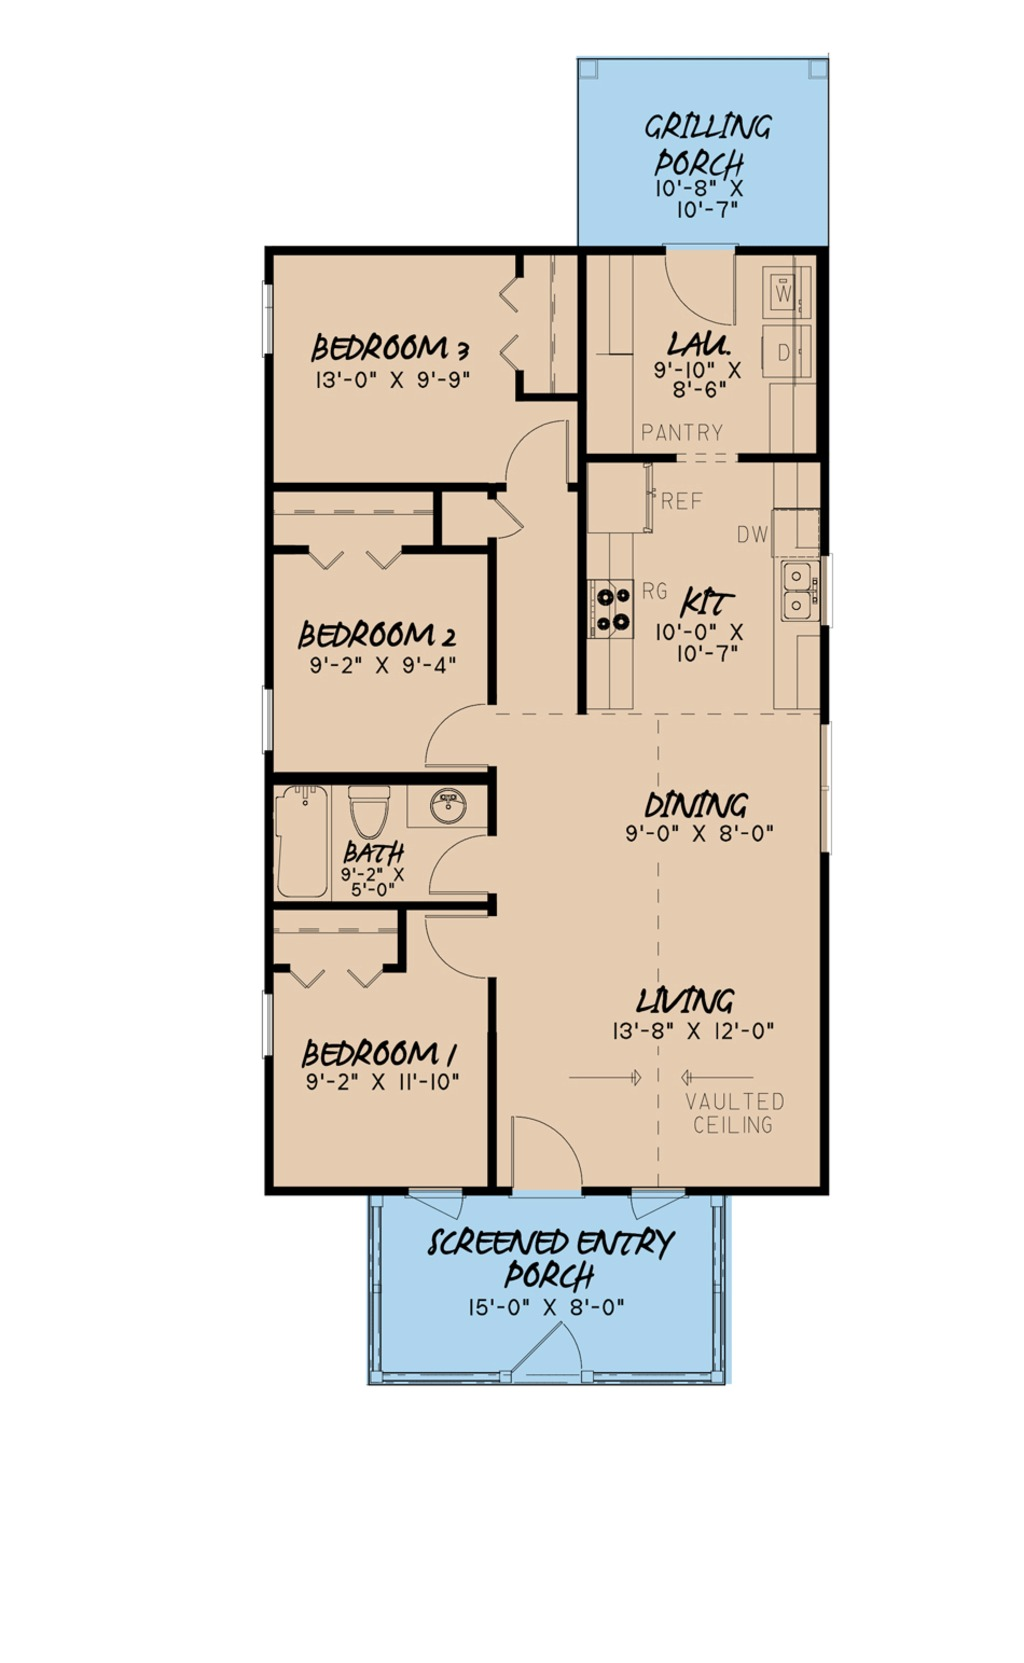door: (460, 1302, 617, 1396), (653, 211, 756, 346), (497, 1096, 605, 1207), (397, 681, 502, 770), (495, 401, 581, 491), (466, 475, 550, 549), (421, 832, 518, 894), (426, 908, 510, 978)
large_sink: (337, 767, 407, 856)
small_sink: (400, 773, 502, 828)
tub: (266, 778, 329, 902)
twin_sink: (767, 540, 837, 631)
window: (245, 270, 303, 367)
